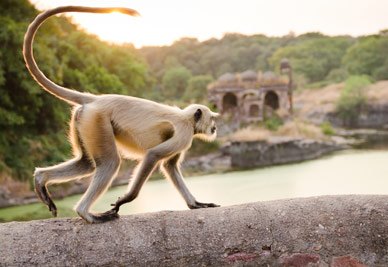monkey: (18, 7, 227, 225)
